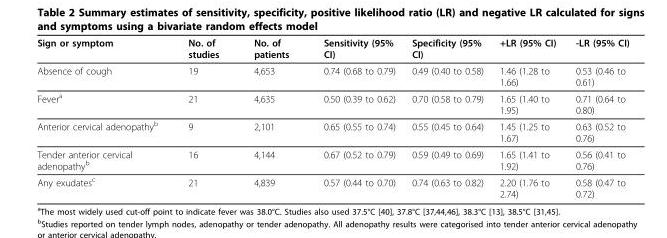table: (36, 36, 628, 199)
table column: (36, 36, 172, 199), (305, 36, 402, 199), (402, 36, 490, 199), (490, 36, 565, 199), (235, 36, 305, 199), (172, 36, 235, 199), (565, 36, 628, 199)
table column header: (36, 36, 628, 62)
table row: (36, 89, 628, 117), (36, 117, 628, 145), (36, 145, 628, 173), (36, 62, 628, 89), (36, 36, 628, 62), (36, 173, 628, 199)
